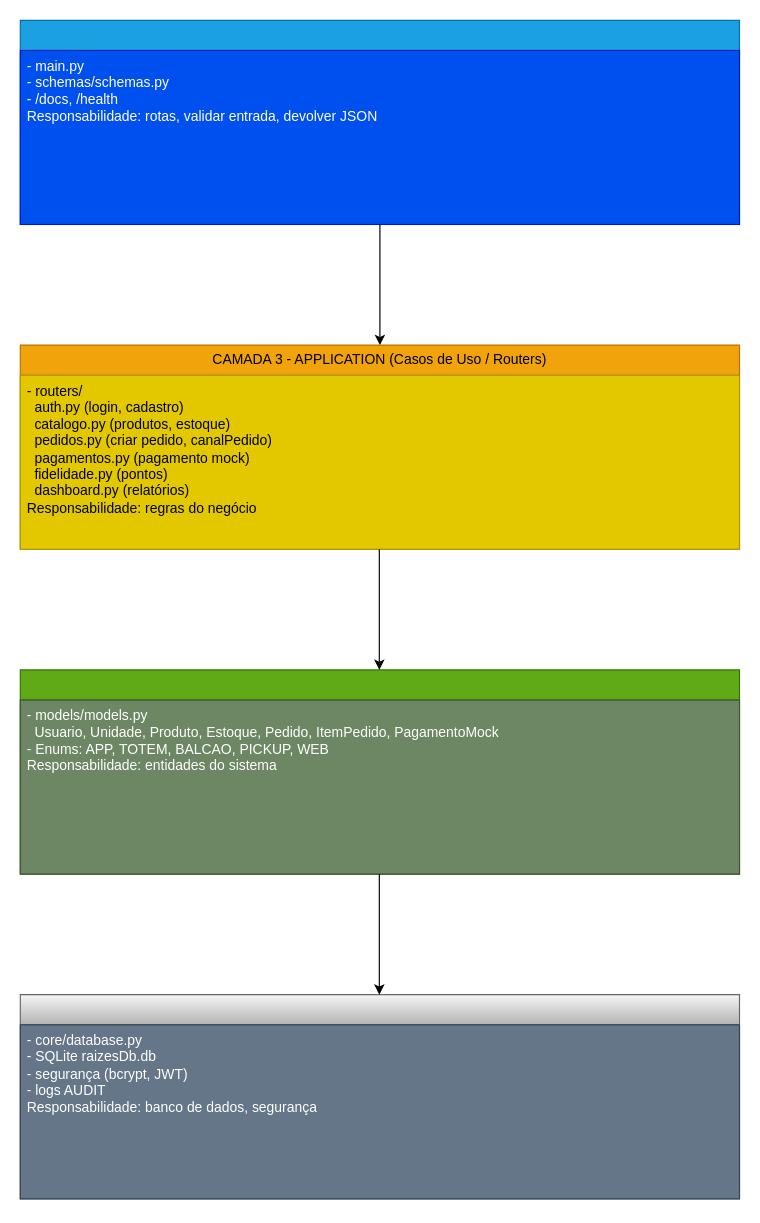
Image size: 760x1223. Some labels were removed from this diagram. The shapes that lost their labels are listed below. From the top down, each one's box as (x1, y1, x2, y2) in pixels, then its label:
(19, 19, 740, 224): CAMADA 4 - API / INTERFACE (FastAPI + Swagger)
(19, 669, 740, 874): CAMADA 2 - DOMAIN (Entidades / Models)
(19, 994, 740, 1199): CAMADA 1 - INFRASTRUCTURE (Infraestrutura e Integrações Externas)
